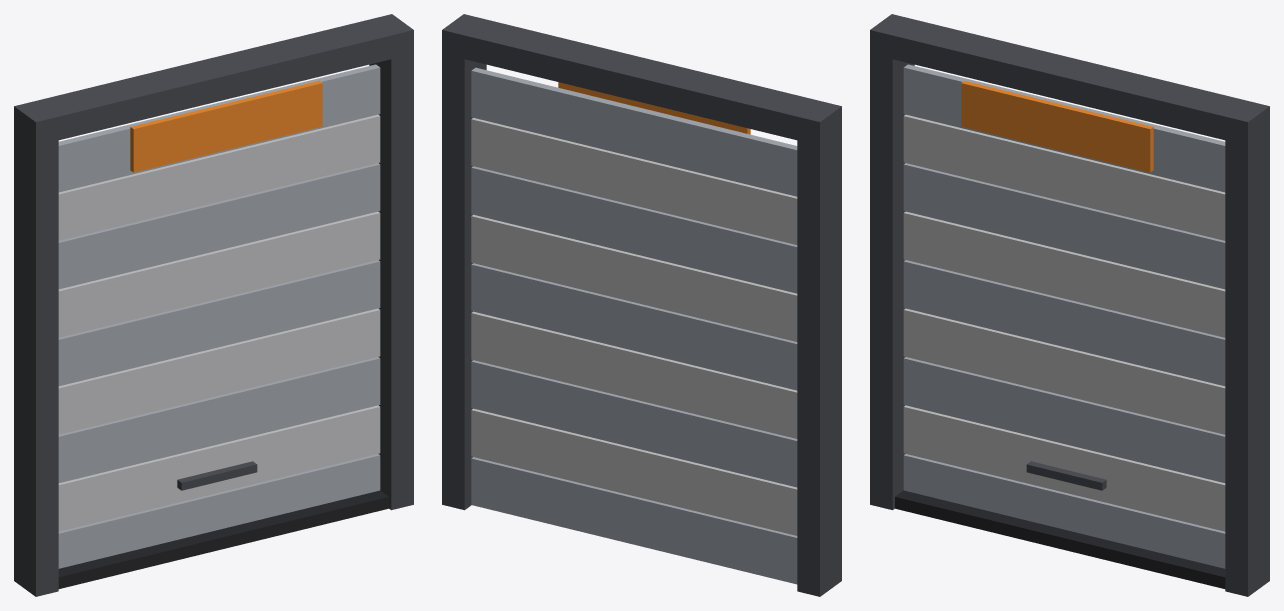
Rendered from door_vendor.glb.
The picture shows the model from 3 angles, left to right: view 1: azimuth 30°, elevation 25°; view 2: azimuth 150°, elevation 25°; view 3: azimuth 330°, elevation 25°; orthographic projection.
Parts seen in each view (by area): view 1: door_vendor, door_vendor_sign; view 2: door_vendor, door_vendor_sign; view 3: door_vendor, door_vendor_sign.
Boxes of the visible parts, box(x1,y1,x2,y2) form: door_vendor: box(14, 14, 413, 596); door_vendor_sign: box(130, 80, 322, 172); door_vendor: box(442, 14, 841, 596); door_vendor_sign: box(558, 82, 750, 134); door_vendor: box(870, 14, 1269, 596); door_vendor_sign: box(961, 80, 1153, 172).
Size of the model in its own units: 2 by 2.4 by 0.23.
2 materials, 1 textured.
